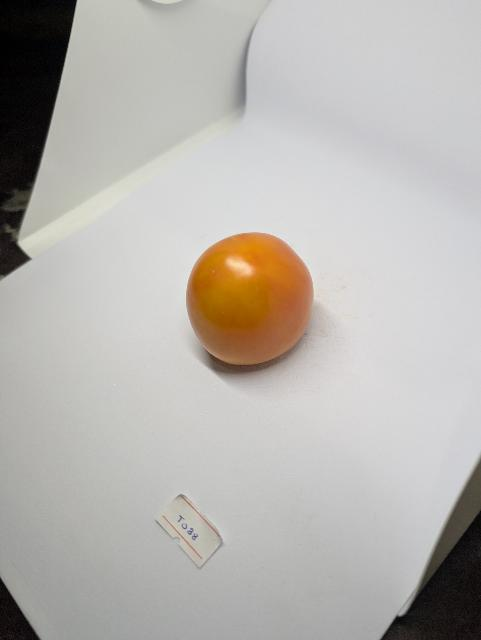turning: (176, 225, 333, 377)
